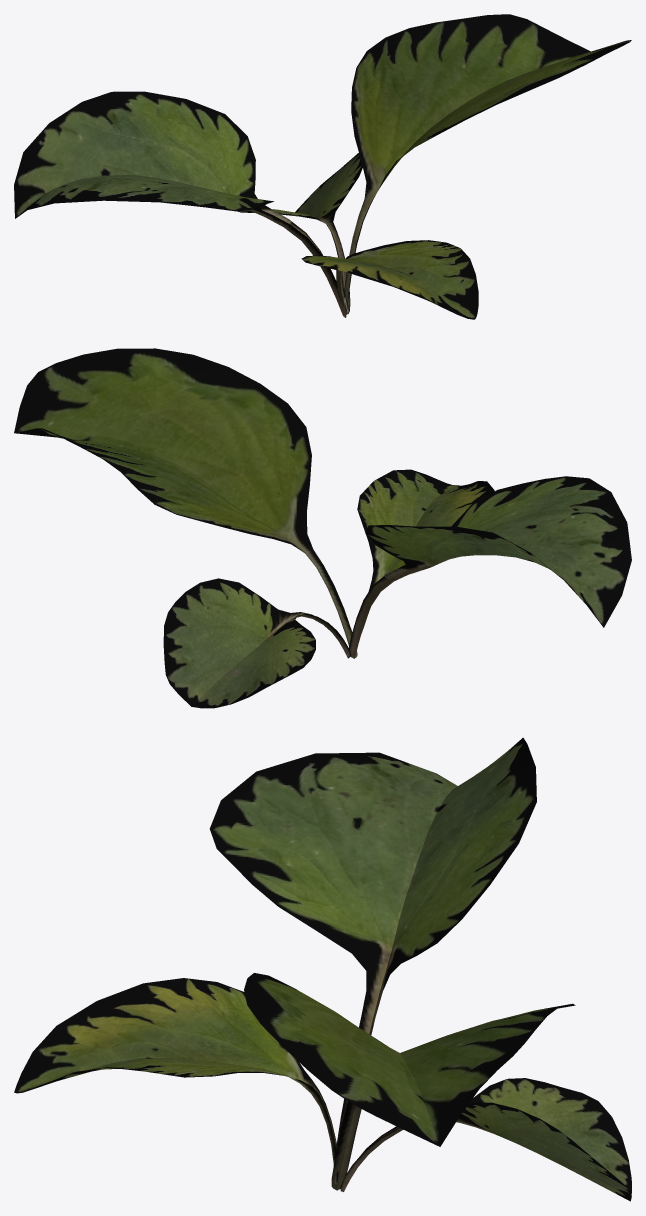
Rendered from nettle_plant_3.gltf.
3 views of the same model, one above another, from view 1: azimuth 30°, elevation 25°; view 2: azimuth 150°, elevation 25°; view 3: azimuth 270°, elevation 25° (orthographic). The views are drawn at different scales.
Parts seen in each view (by area): view 1: nettle_plant_small_b_LOD0; view 2: nettle_plant_small_b_LOD0; view 3: nettle_plant_small_b_LOD0.
Part boxes in pixels (bbox=[...]): nettle_plant_small_b_LOD0: bbox=[14, 14, 631, 319]; nettle_plant_small_b_LOD0: bbox=[14, 348, 631, 708]; nettle_plant_small_b_LOD0: bbox=[14, 737, 631, 1201].
Size of the model in its own units: 0.0597 by 0.0217 by 0.0385.
Materials: 1 (1 with a texture image).
